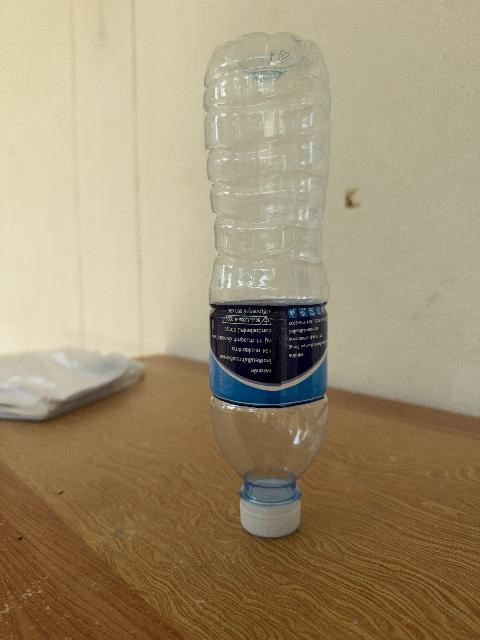bottle: (205, 33, 329, 536)
